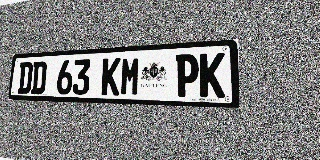3: (72, 59, 91, 95)
6: (56, 60, 74, 95)
D: (31, 61, 47, 94), (17, 62, 33, 94)
K: (199, 52, 225, 98), (101, 58, 121, 96)
M: (120, 57, 141, 96)
P: (175, 54, 199, 97)
